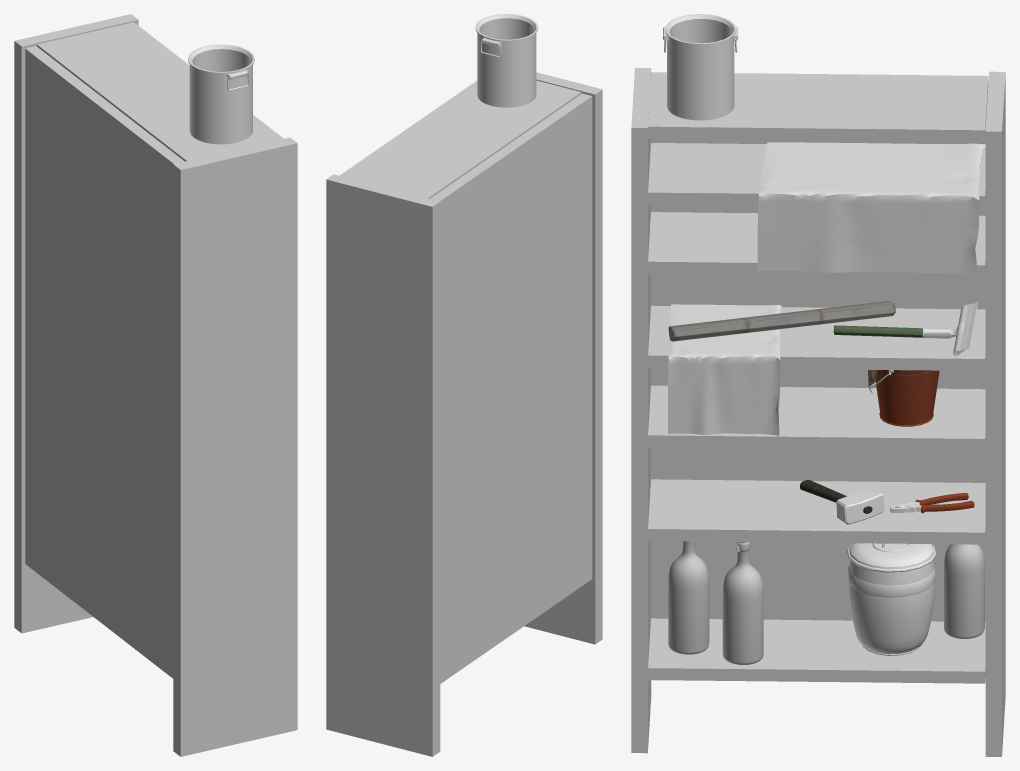
The model's file is Shelf.fbx.
3 renders of one model, left to right at view 1: azimuth 30°, elevation 25°; view 2: azimuth 150°, elevation 25°; view 3: azimuth 270°, elevation 25°, orthographic. The views are drawn at different scales.
Parts seen in each view (by area): view 1: KShelf; view 2: KShelf; view 3: KShelf.
Part boxes in pixels (left/top/right/bottom): KShelf: left=14, top=14, right=297, bottom=756; KShelf: left=326, top=14, right=602, bottom=756; KShelf: left=631, top=14, right=1005, bottom=756.
Size of the model in its own units: 0.3474 by 1.77 by 0.8544.
